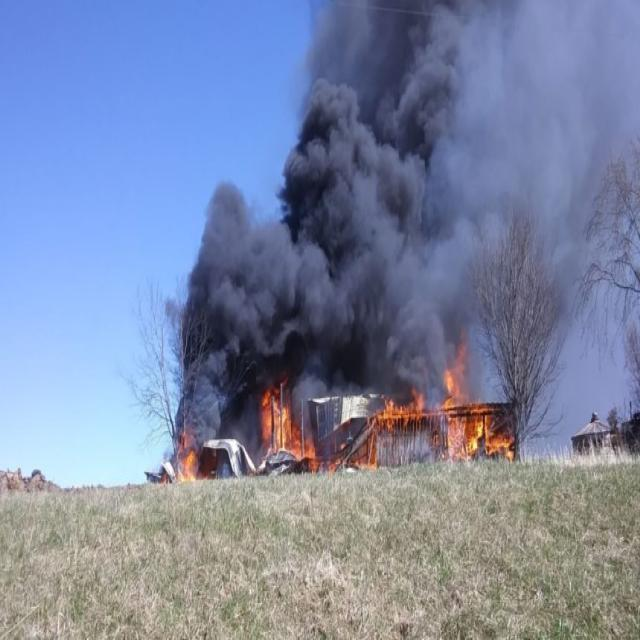Fire: (369, 387, 514, 481), (156, 424, 217, 487), (297, 424, 369, 476), (258, 378, 295, 470), (442, 356, 467, 386), (456, 323, 468, 355)
Smoke: (282, 0, 452, 348), (453, 3, 638, 316), (171, 178, 278, 364), (517, 316, 640, 465), (294, 354, 366, 421), (172, 366, 258, 420), (472, 317, 512, 383), (368, 350, 440, 386), (220, 426, 256, 484)
